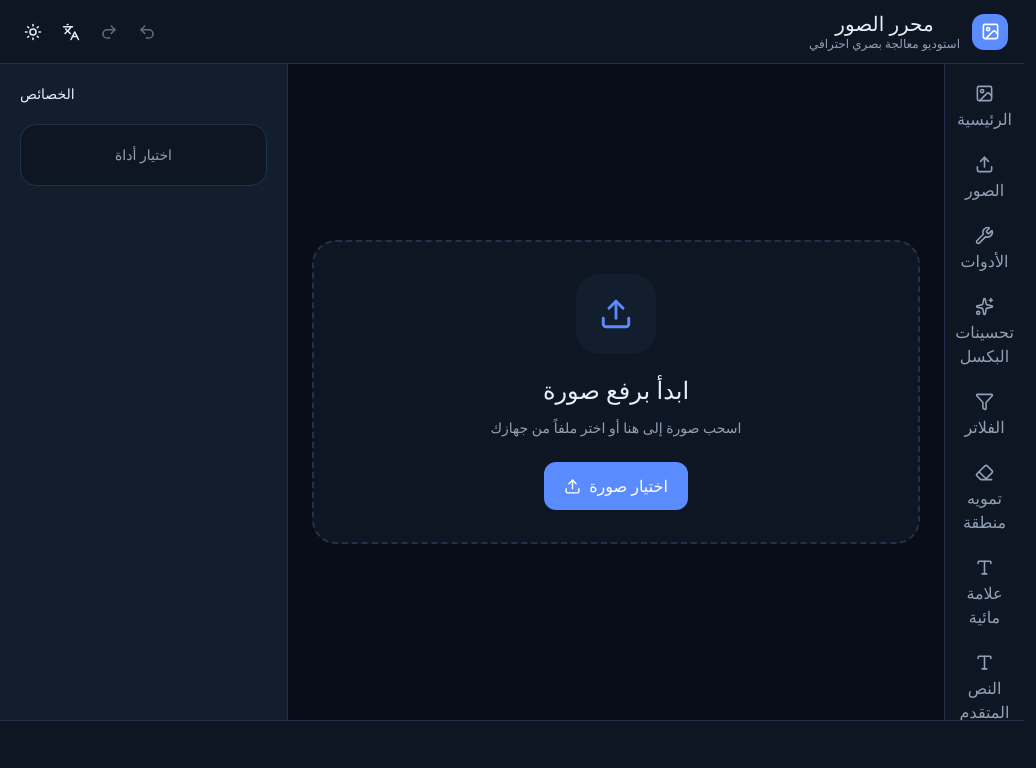
Test: application shell foundation › switches the shell to English and LTR
What coordinates should you click on to do the following:
click the button named "اللغة"
I would click on:
 (71, 32)
Its box is [54,14,88,48].
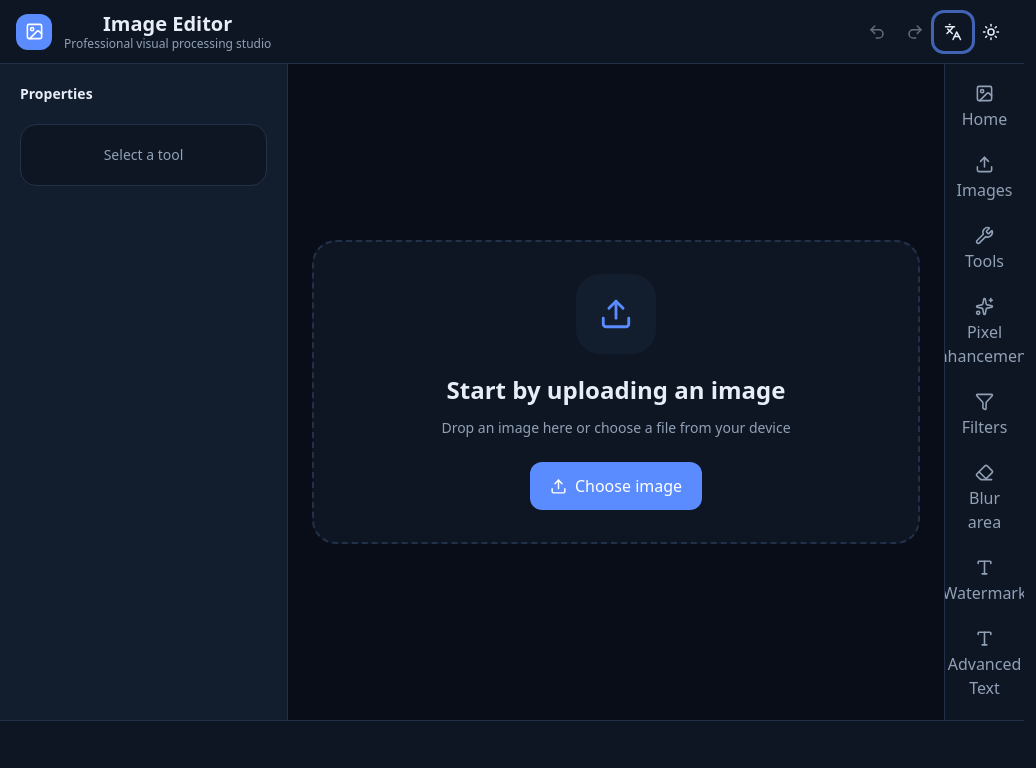
Check: the text "Image Editor" is shown, box [103,10,232,36]
